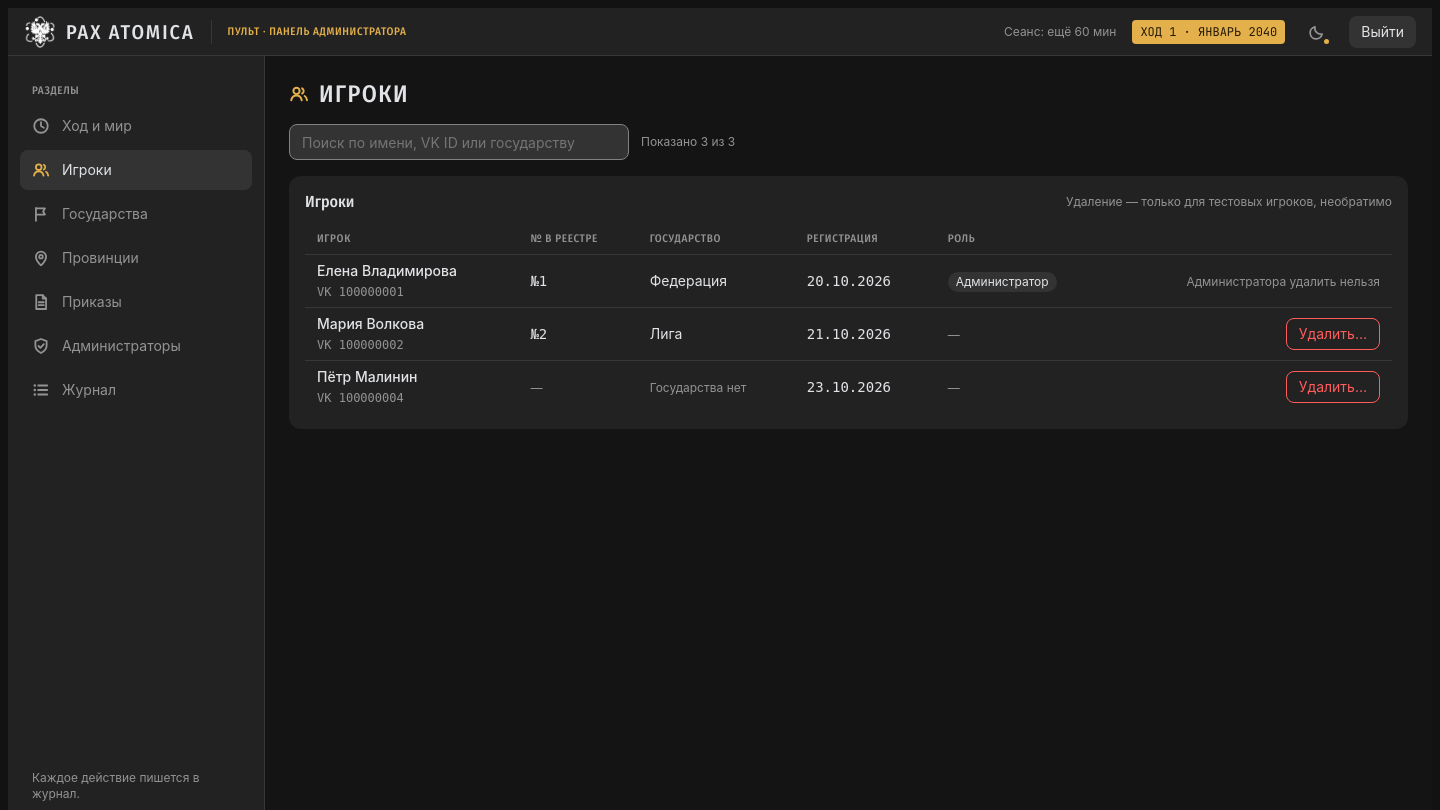
Test: a successful delete closes the popup, notices and reloads
Expected: the table with test id "players-table" is shown, [305, 224, 1392, 413]
Step 1. Click the button with test id "delete-100000002" → {"x": 1333, "y": 334}, box [1286, 318, 1380, 350]
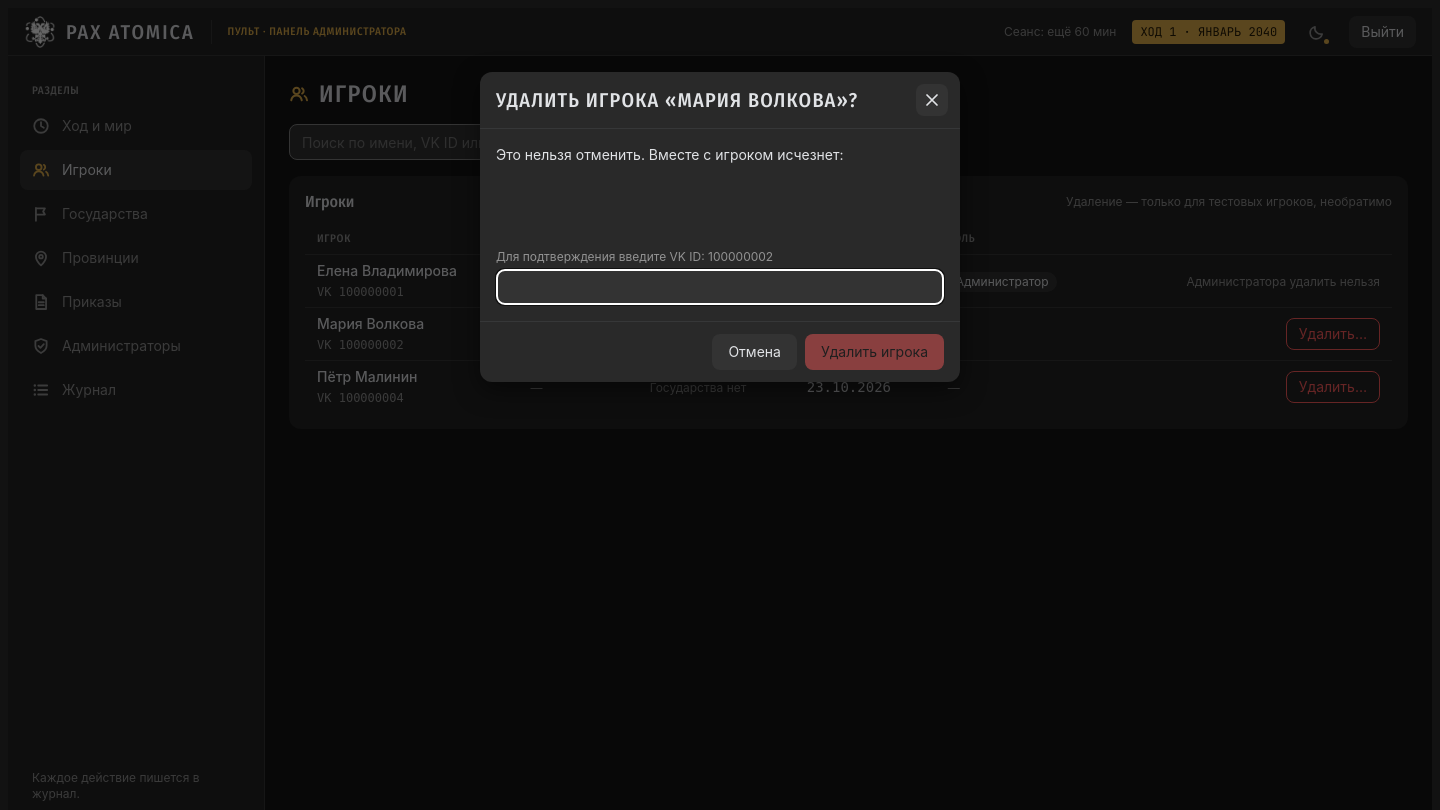
Expected: the dialog with test id "player-delete-popup" is shown, [480, 72, 960, 382]
Step 2. Type "100000002" into the field labelled "Для подтверждения введите VK ID: 100000002" → {"x": 720, "y": 287}, box [496, 269, 944, 305]
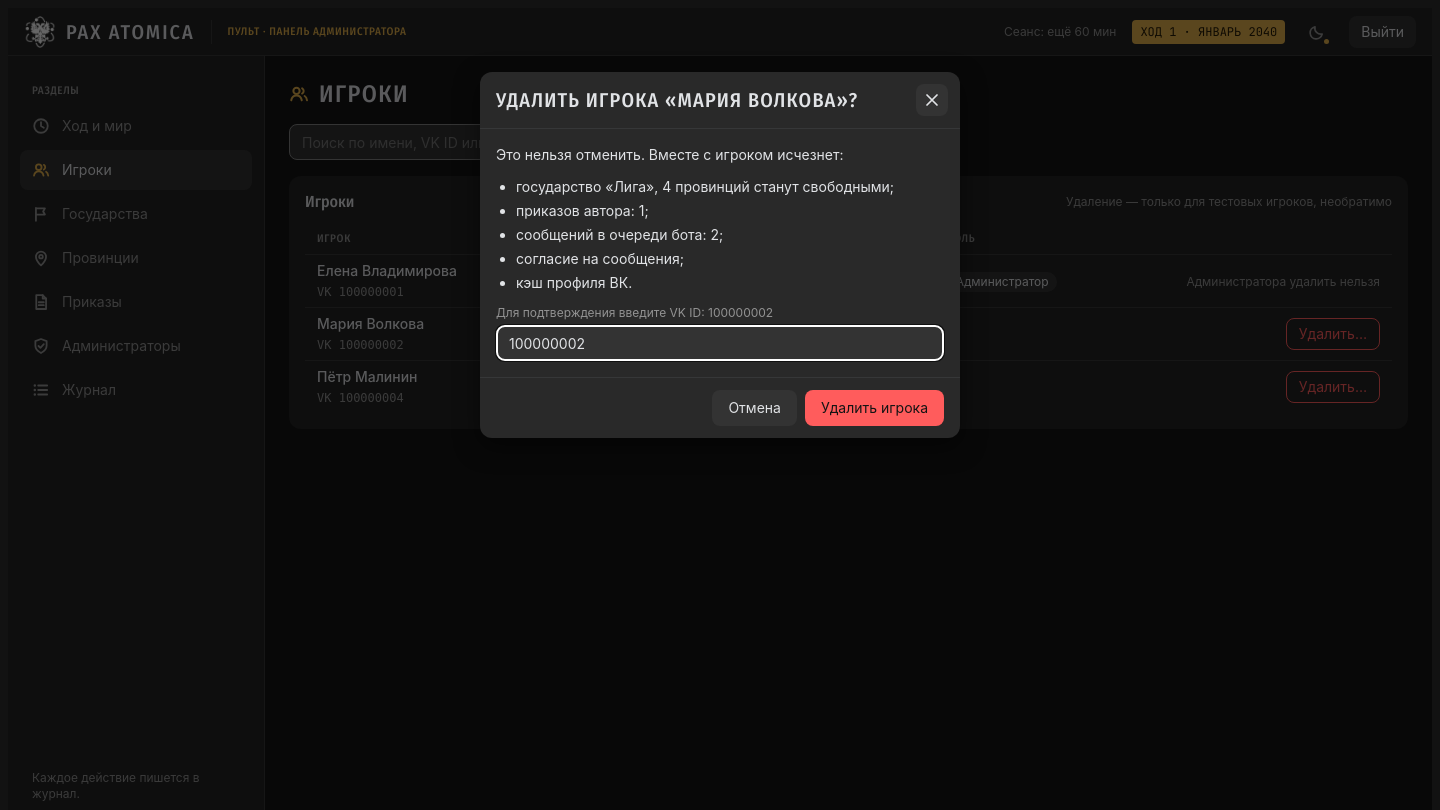
Step 3. Click the button with test id "confirm-player-delete" → {"x": 874, "y": 408}, box [805, 390, 944, 426]
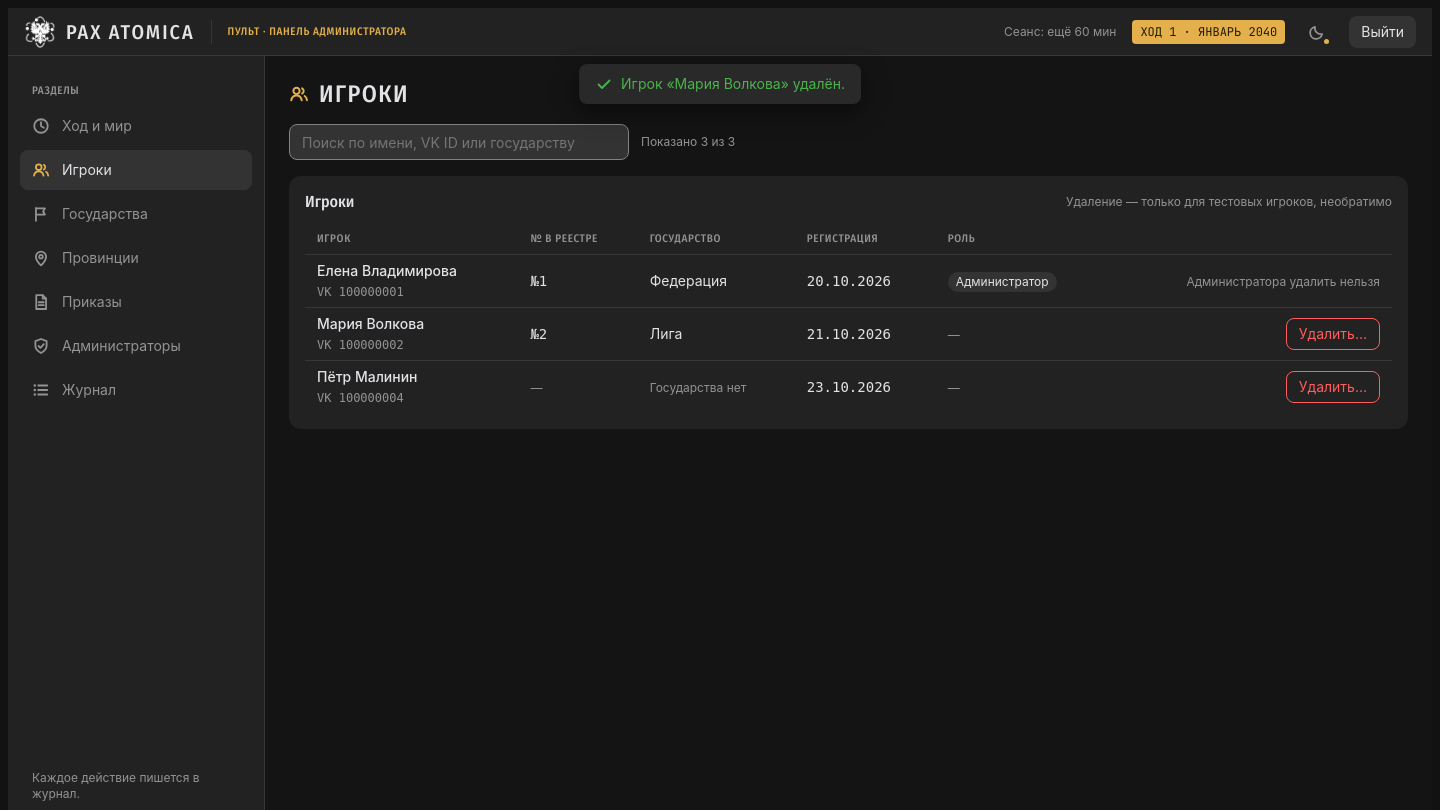
Expected: the dialog with test id "player-delete-popup" is gone
Expected: the text "Игрок «Мария Волкова» удалён." is shown, [621, 74, 845, 94]
